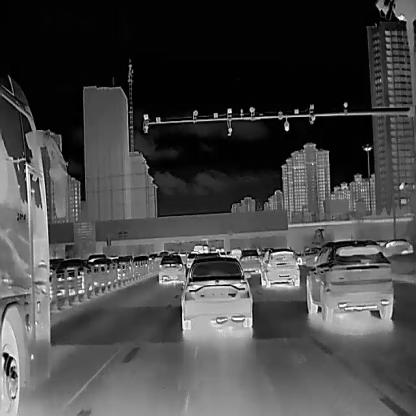bus: (0, 69, 70, 415), (193, 241, 203, 253), (204, 244, 209, 254), (214, 246, 220, 251)
car: (306, 238, 393, 322), (179, 256, 252, 329), (46, 256, 92, 298), (258, 245, 300, 287), (157, 252, 185, 282), (88, 257, 116, 286), (235, 247, 260, 272), (379, 238, 412, 256), (296, 246, 320, 268), (112, 255, 134, 276), (133, 255, 148, 273), (184, 251, 196, 268), (229, 247, 242, 258)
